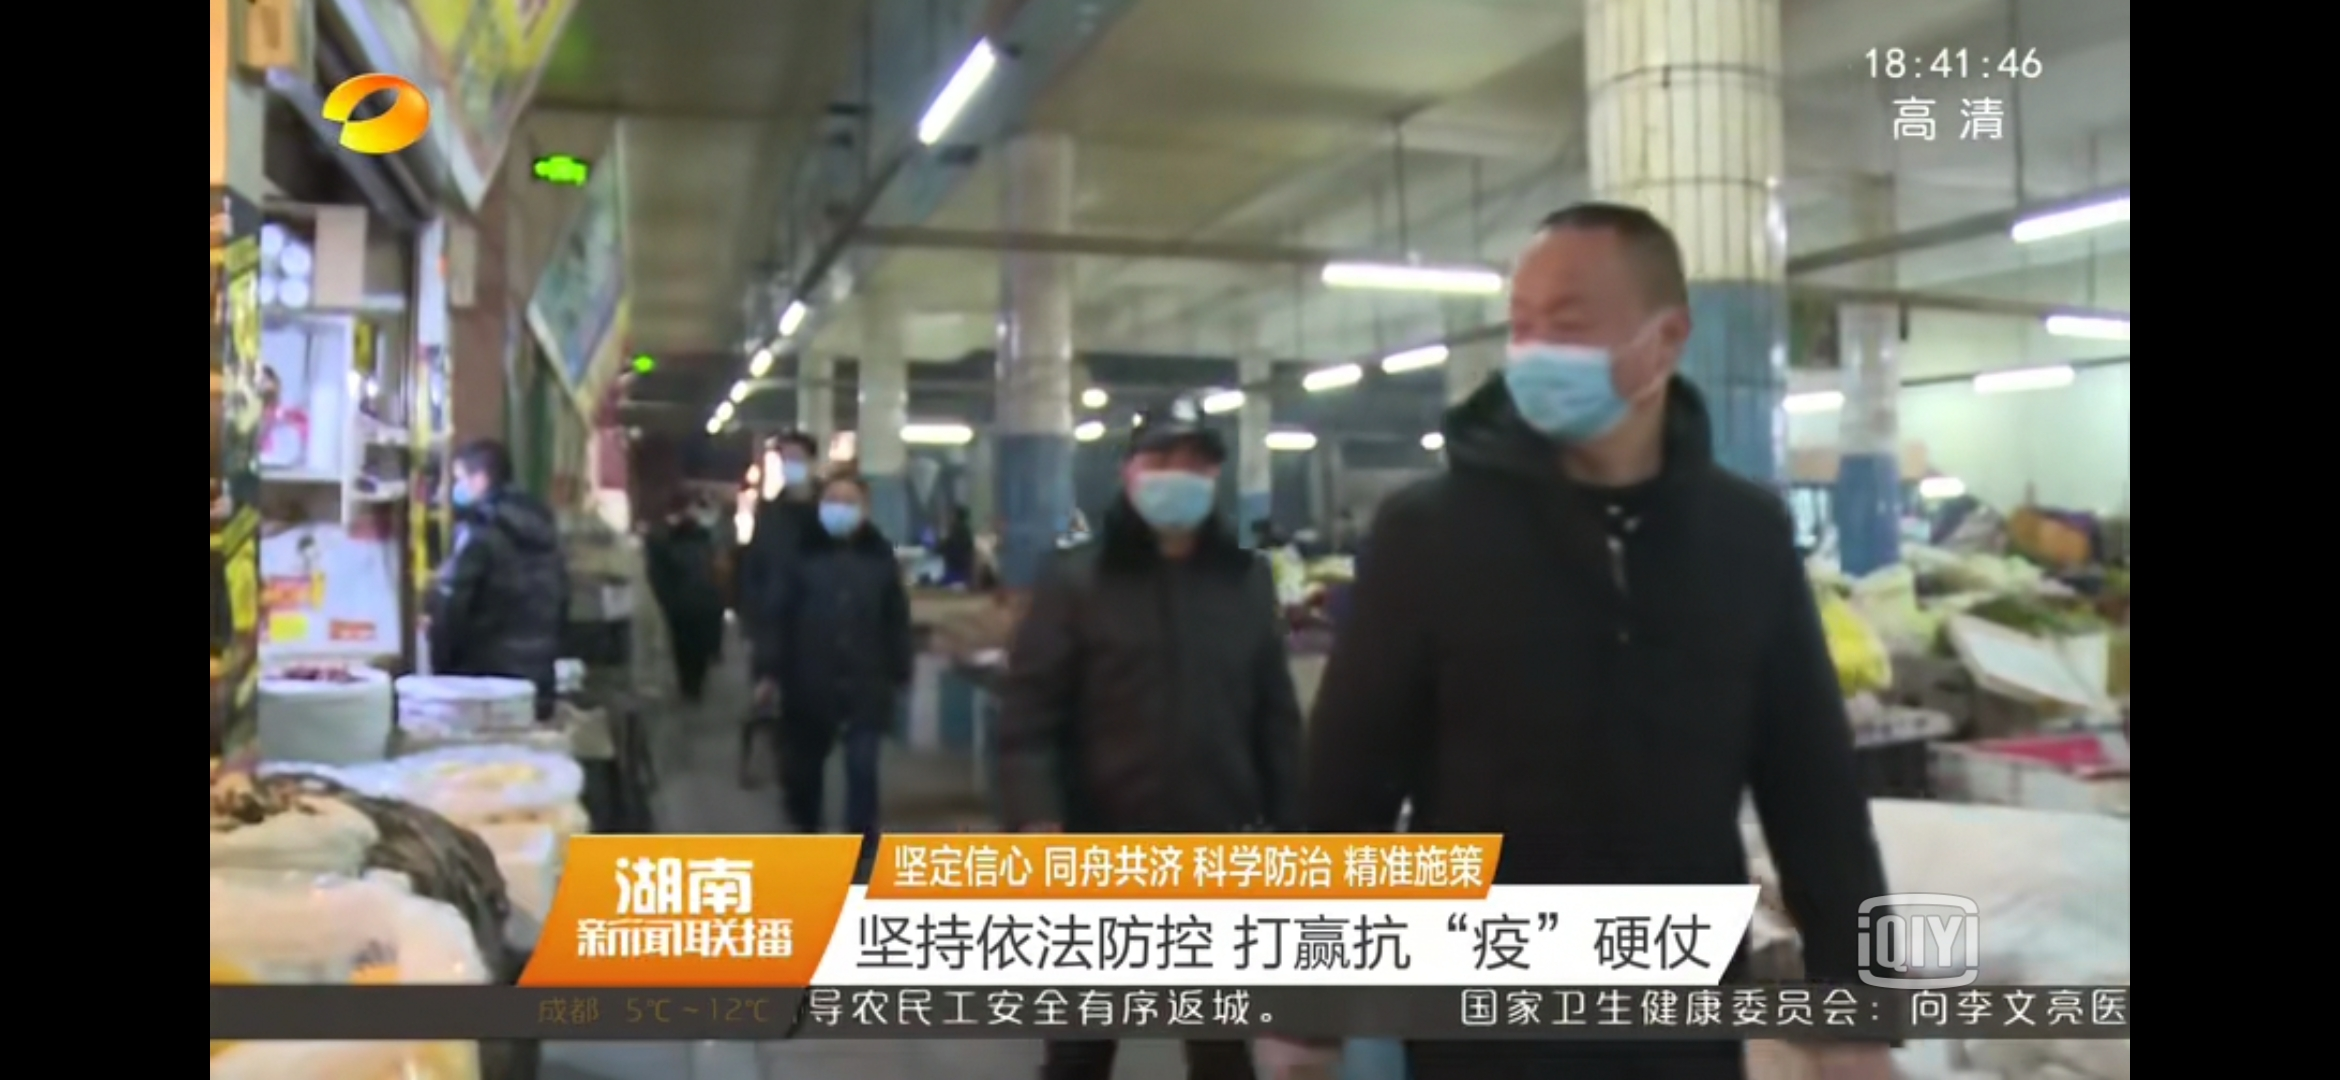correctlyWear: (1504, 294, 1680, 456), (1125, 453, 1219, 543), (818, 483, 872, 541), (454, 453, 495, 513), (779, 446, 819, 492)
